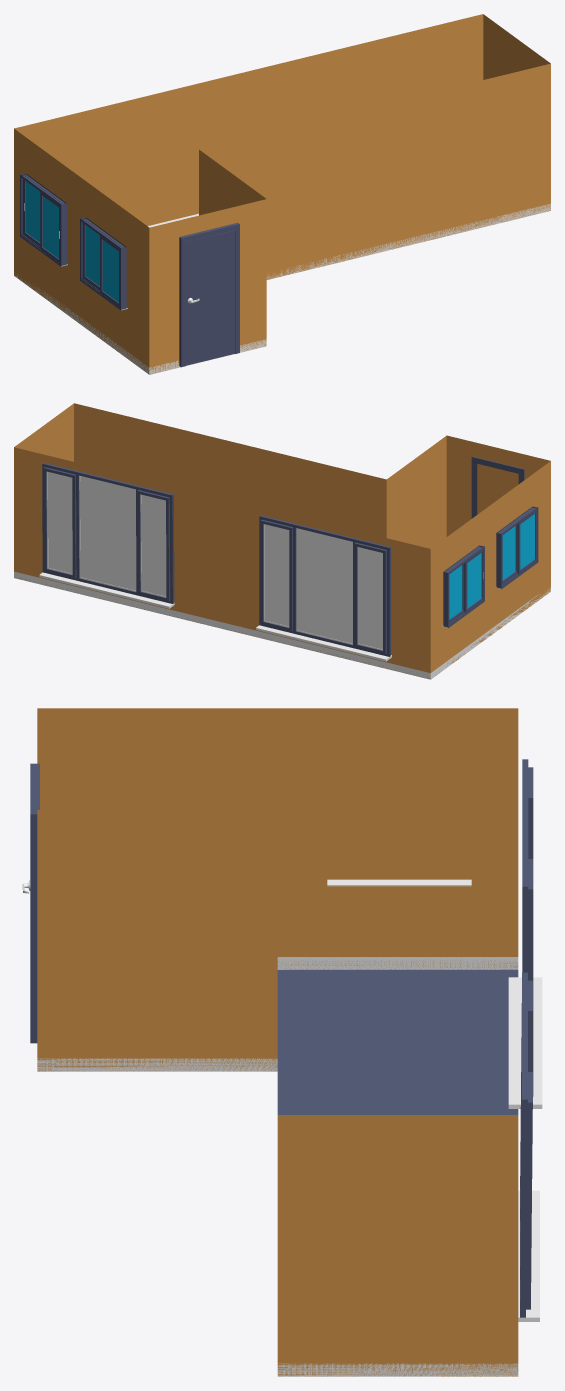
Rendered from roomLarge.glb.
3 renders of one model, top to bottom at view 1: azimuth 30°, elevation 25°; view 2: azimuth 150°, elevation 25°; view 3: azimuth 270°, elevation 25°, orthographic. The views are drawn at different scales.
Visible parts, largest first — view 1: Room, Door, Baseboard, DoorFrame, WindowFrame, Window.R.001, WindowFrame.001, Window.R, Window.L, Window.L.001; view 2: Room, Window, Window.001, Baseboard, Window.R.001, Window.R, WindowFrame.001, WindowFrame, Window.L.001, DoorFrame, Window.L; view 3: Room, Floor, Baseboard, Window, Window.001, DoorFrame, Windows_Sill.
Boxes of the visible parts, <box> form: Room: <box>14,14,550,374</box>; Door: <box>186,230,234,365</box>; Baseboard: <box>14,203,550,374</box>; DoorFrame: <box>179,222,239,367</box>; WindowFrame: <box>20,173,66,266</box>; Window.R.001: <box>100,235,119,306</box>; WindowFrame.001: <box>80,217,126,310</box>; Window.R: <box>40,191,59,262</box>; Window.L: <box>23,179,40,246</box>; Window.L.001: <box>83,223,99,290</box>; Room: <box>14,403,550,678</box>; Window: <box>256,515,391,661</box>; Window.001: <box>39,462,174,608</box>; Baseboard: <box>14,571,550,679</box>; Window.R.001: <box>517,510,536,574</box>; Window.R: <box>464,549,483,613</box>; WindowFrame.001: <box>496,506,538,589</box>; WindowFrame: <box>443,545,484,628</box>; Window.L.001: <box>502,524,517,583</box>; DoorFrame: <box>471,456,524,518</box>; Window.L: <box>449,563,463,622</box>; Room: <box>37,708,518,1376</box>; Floor: <box>277,970,518,1114</box>; Baseboard: <box>37,957,518,1376</box>; Window: <box>508,759,542,1108</box>; Window.001: <box>518,972,539,1321</box>; DoorFrame: <box>30,763,39,1043</box>; Windows_Sill: <box>327,879,471,886</box>.
Bounding box in the file's own units: 8.12 × 2.4 × 4.32.
